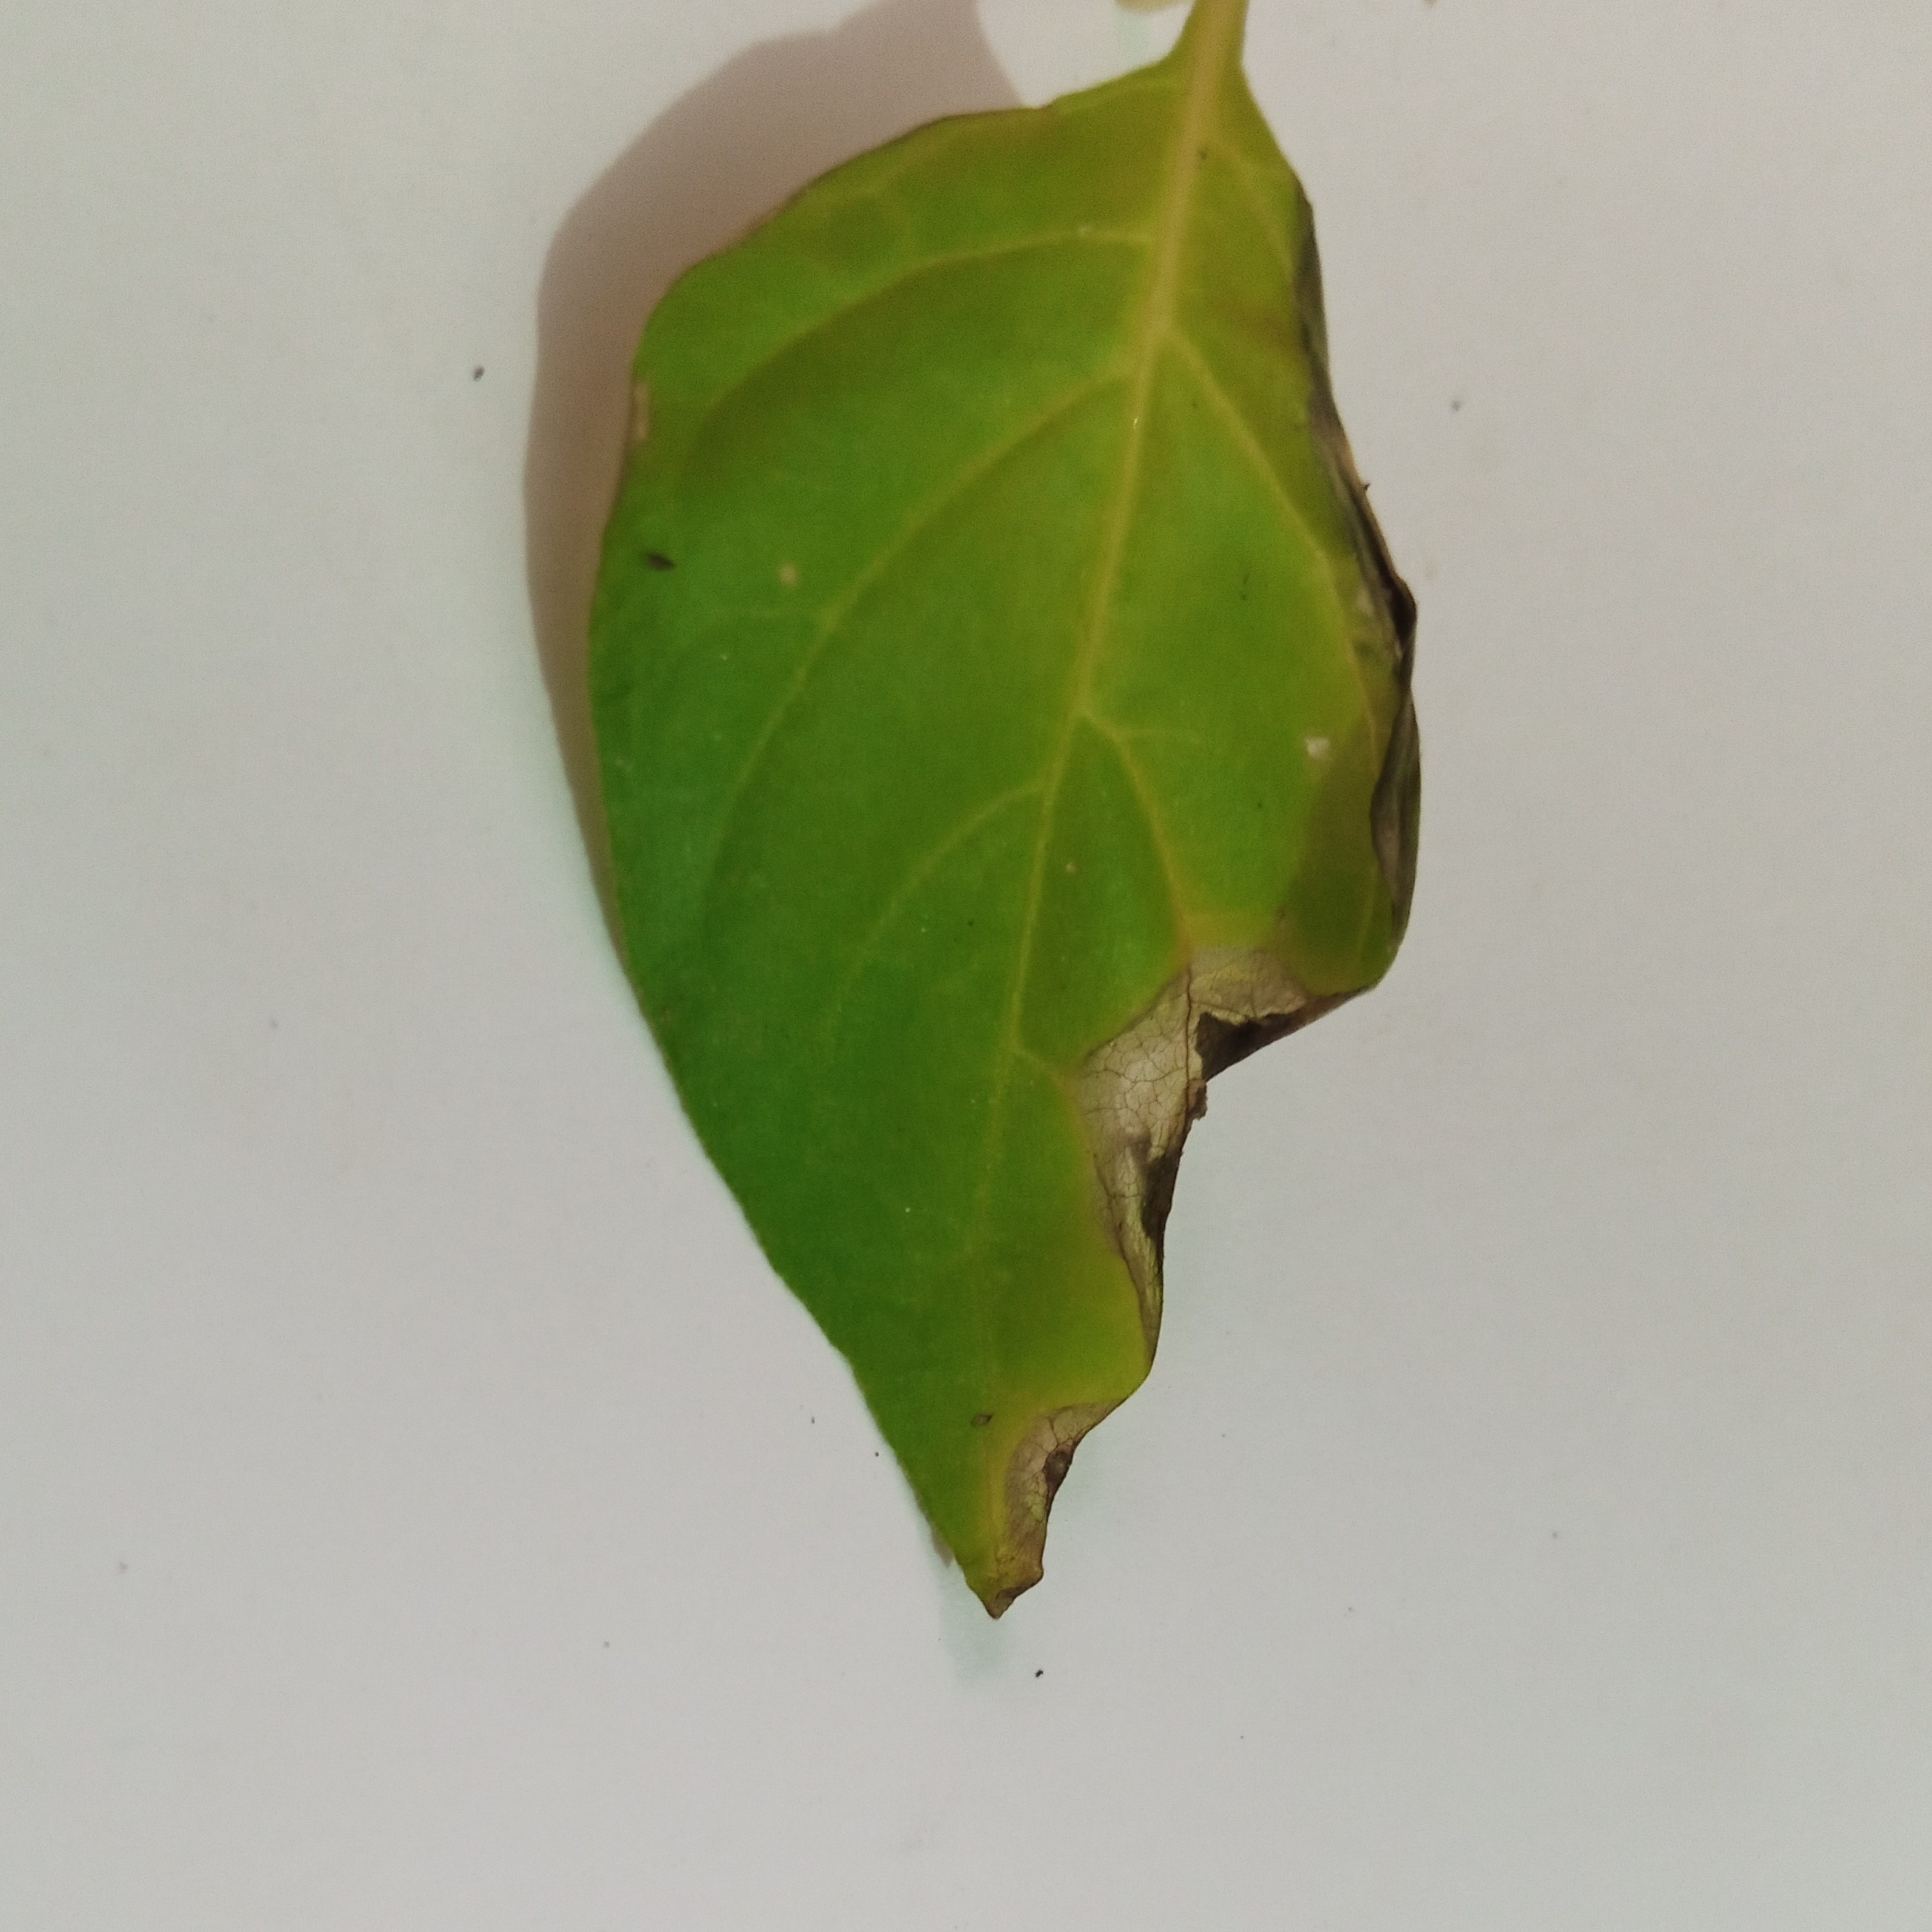Leaf: (380, 11, 1675, 1615)
